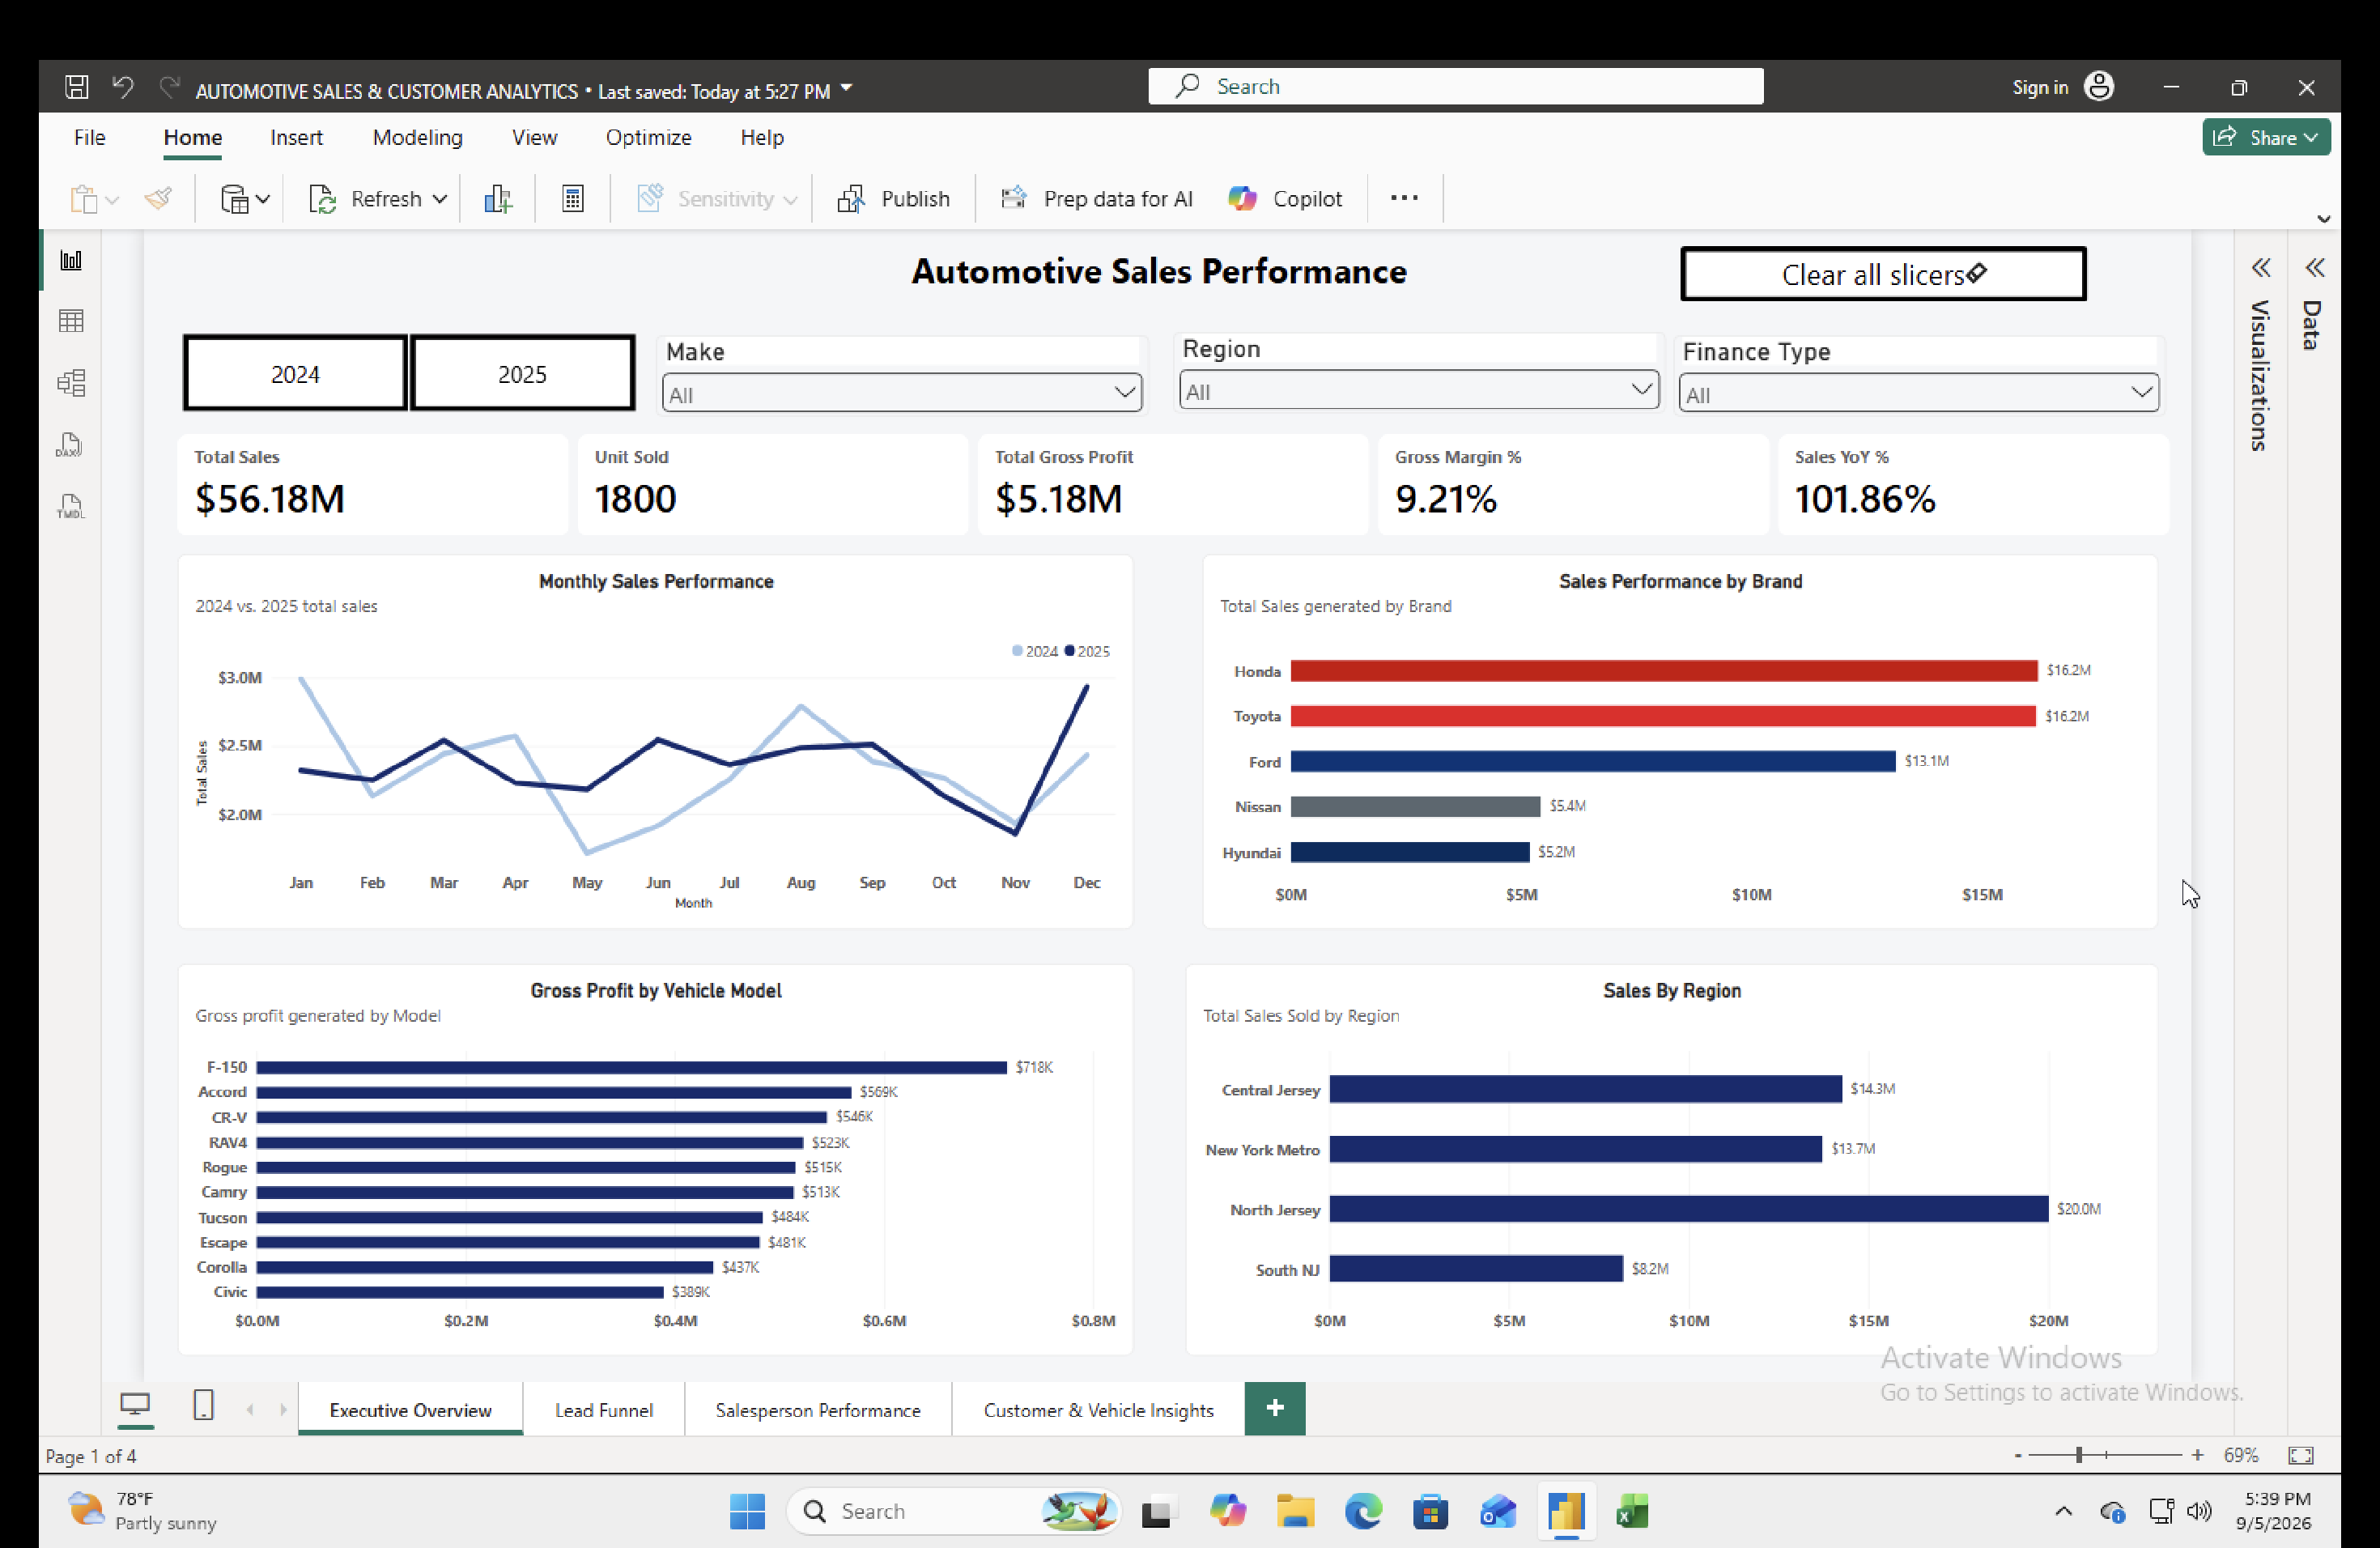

The dashboard page shown, as its layout file describes it:
{"tool":"powerbi","page":{"name":"Executive Overview","canvas":[1920,1080],"ordinal":0},"visuals":[{"type":"slicer","fields":{"Values":["FactSales.Make"]},"box":[479.6,98.8,461.7,76.1],"z":0,"group":"g1"},{"type":"cardVisual","fields":{"Data":["FactSales.Total Sales","FactSales.Unit Sold","FactSales.Total Gross Profit","FactSales.Gross Margin %","FactSales.Sales YoY %"]},"box":[32,192,1872,96],"z":0},{"type":"slicer","fields":{"Values":["FactSales.Region"]},"box":[963.8,96.6,461.7,76.1],"z":1000,"group":"g1"},{"type":"lineChart","title":"Monthly Sales Performance","fields":{"Y":["FactSales.Total Sales"],"Series":["DimDate.Year"],"Category":["DimDate.Month"]},"box":[32,304,896,352],"z":1000},{"type":"slicer","fields":{"Values":["FactSales.FinanceType"]},"box":[1432.5,98.8,461.7,76.1],"z":2000,"group":"g1"},{"type":"barChart","title":"Sales Performance by Brand","fields":{"Category":["FactSales.Make"],"Y":["FactSales.Total Sales"]},"box":[992,304,896,352],"z":2000},{"type":"clusteredBarChart","title":"Gross Profit by Vehicle Model","fields":{"Category":["FactSales.Model"],"Y":["FactSales.Total Gross Profit"]},"box":[32,688,896,368],"z":3000},{"type":"textbox","box":[720,16,480.4,52.2],"z":4000},{"type":"slicer","fields":{"Values":["FactSales.Year"]},"box":[15.8,96.6,463.8,75.5],"z":5000},{"type":"group","id":"g1","title":"Group 2","box":[479.6,96.6,1408.8,75.5],"z":6000},{"type":"actionButton","box":[1440,16,381.5,52.2],"z":7000},{"type":"clusteredBarChart","title":"Sales By Region","fields":{"Category":["FactSales.Region"],"Y":["FactSales.Total Sales"]},"box":[976,688,912,368],"z":8000}]}

Visuals, with their boxes on the page's 1920x1080 design canvas (x1, y1, x2, y2). These are canvas units, not pixel positions in the 2380x1548 screenshot, which may show the page scaled, cropped or inside an application window:
slicer - FactSales.Make: {"left": 480, "top": 99, "right": 941, "bottom": 175}
cardVisual - FactSales.Total Sales x FactSales.Unit Sold: {"left": 32, "top": 192, "right": 1904, "bottom": 288}
slicer - FactSales.Region: {"left": 964, "top": 97, "right": 1426, "bottom": 173}
"Monthly Sales Performance" lineChart: {"left": 32, "top": 304, "right": 928, "bottom": 656}
slicer - FactSales.FinanceType: {"left": 1432, "top": 99, "right": 1894, "bottom": 175}
"Sales Performance by Brand" barChart: {"left": 992, "top": 304, "right": 1888, "bottom": 656}
"Gross Profit by Vehicle Model" clusteredBarChart: {"left": 32, "top": 688, "right": 928, "bottom": 1056}
textbox: {"left": 720, "top": 16, "right": 1200, "bottom": 68}
slicer - FactSales.Year: {"left": 16, "top": 97, "right": 480, "bottom": 172}
"Group 2" group: {"left": 480, "top": 97, "right": 1888, "bottom": 172}
actionButton: {"left": 1440, "top": 16, "right": 1822, "bottom": 68}
"Sales By Region" clusteredBarChart: {"left": 976, "top": 688, "right": 1888, "bottom": 1056}
